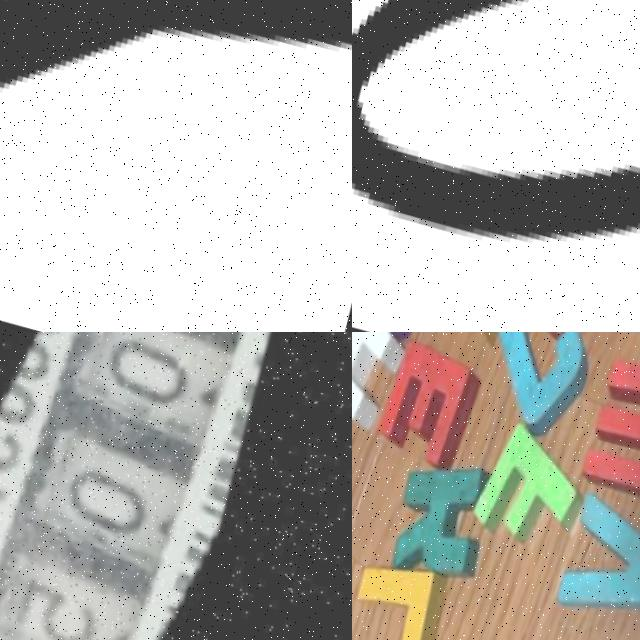0: (352, 0, 640, 332), (46, 454, 162, 552), (86, 332, 199, 419)
5: (0, 562, 107, 640)
E: (370, 332, 482, 470)
F: (461, 424, 589, 559)
H: (352, 332, 416, 436)
J: (477, 332, 596, 435)
K: (376, 451, 494, 594)
L: (352, 550, 459, 640)
V: (546, 478, 640, 640)
W: (565, 332, 640, 505)
Y: (0, 0, 352, 306)
